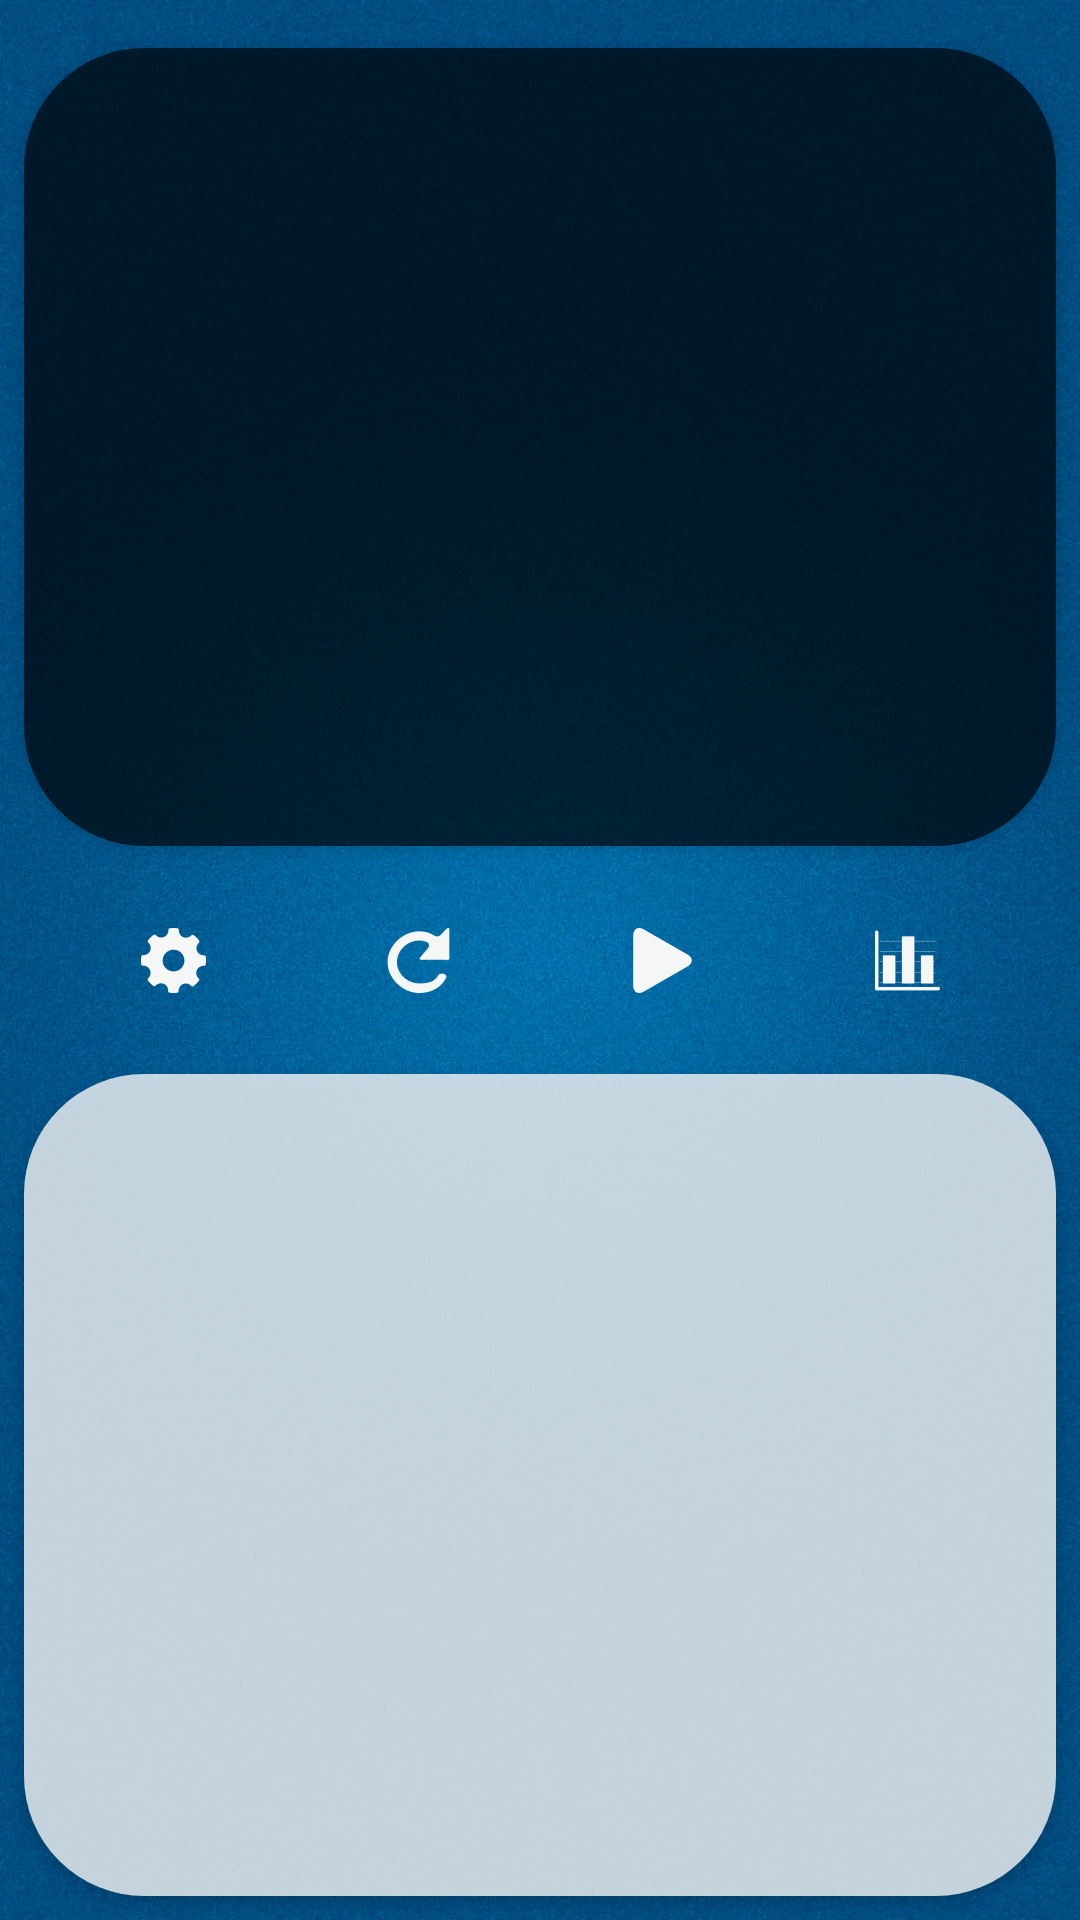

Locate icon controls on the screen. Image size 1080 × 1920, boxes as (x1, y1, x2, y2).
restart: (369, 915, 486, 993)
